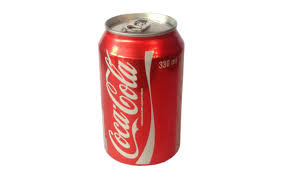coke: (100, 12, 181, 166)
